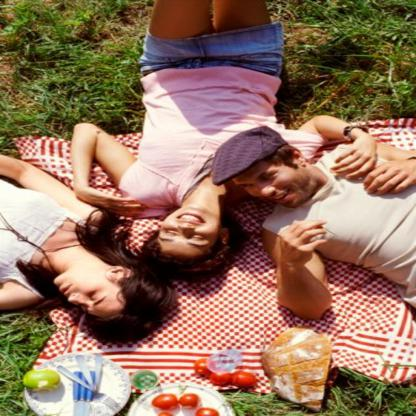face: (233, 163, 316, 210), (54, 271, 122, 321), (156, 207, 219, 260)
